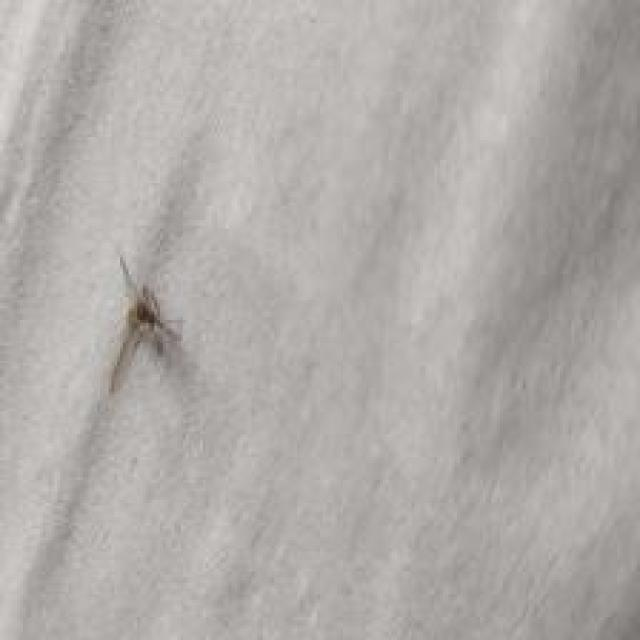Culex: (106, 252, 186, 397)
